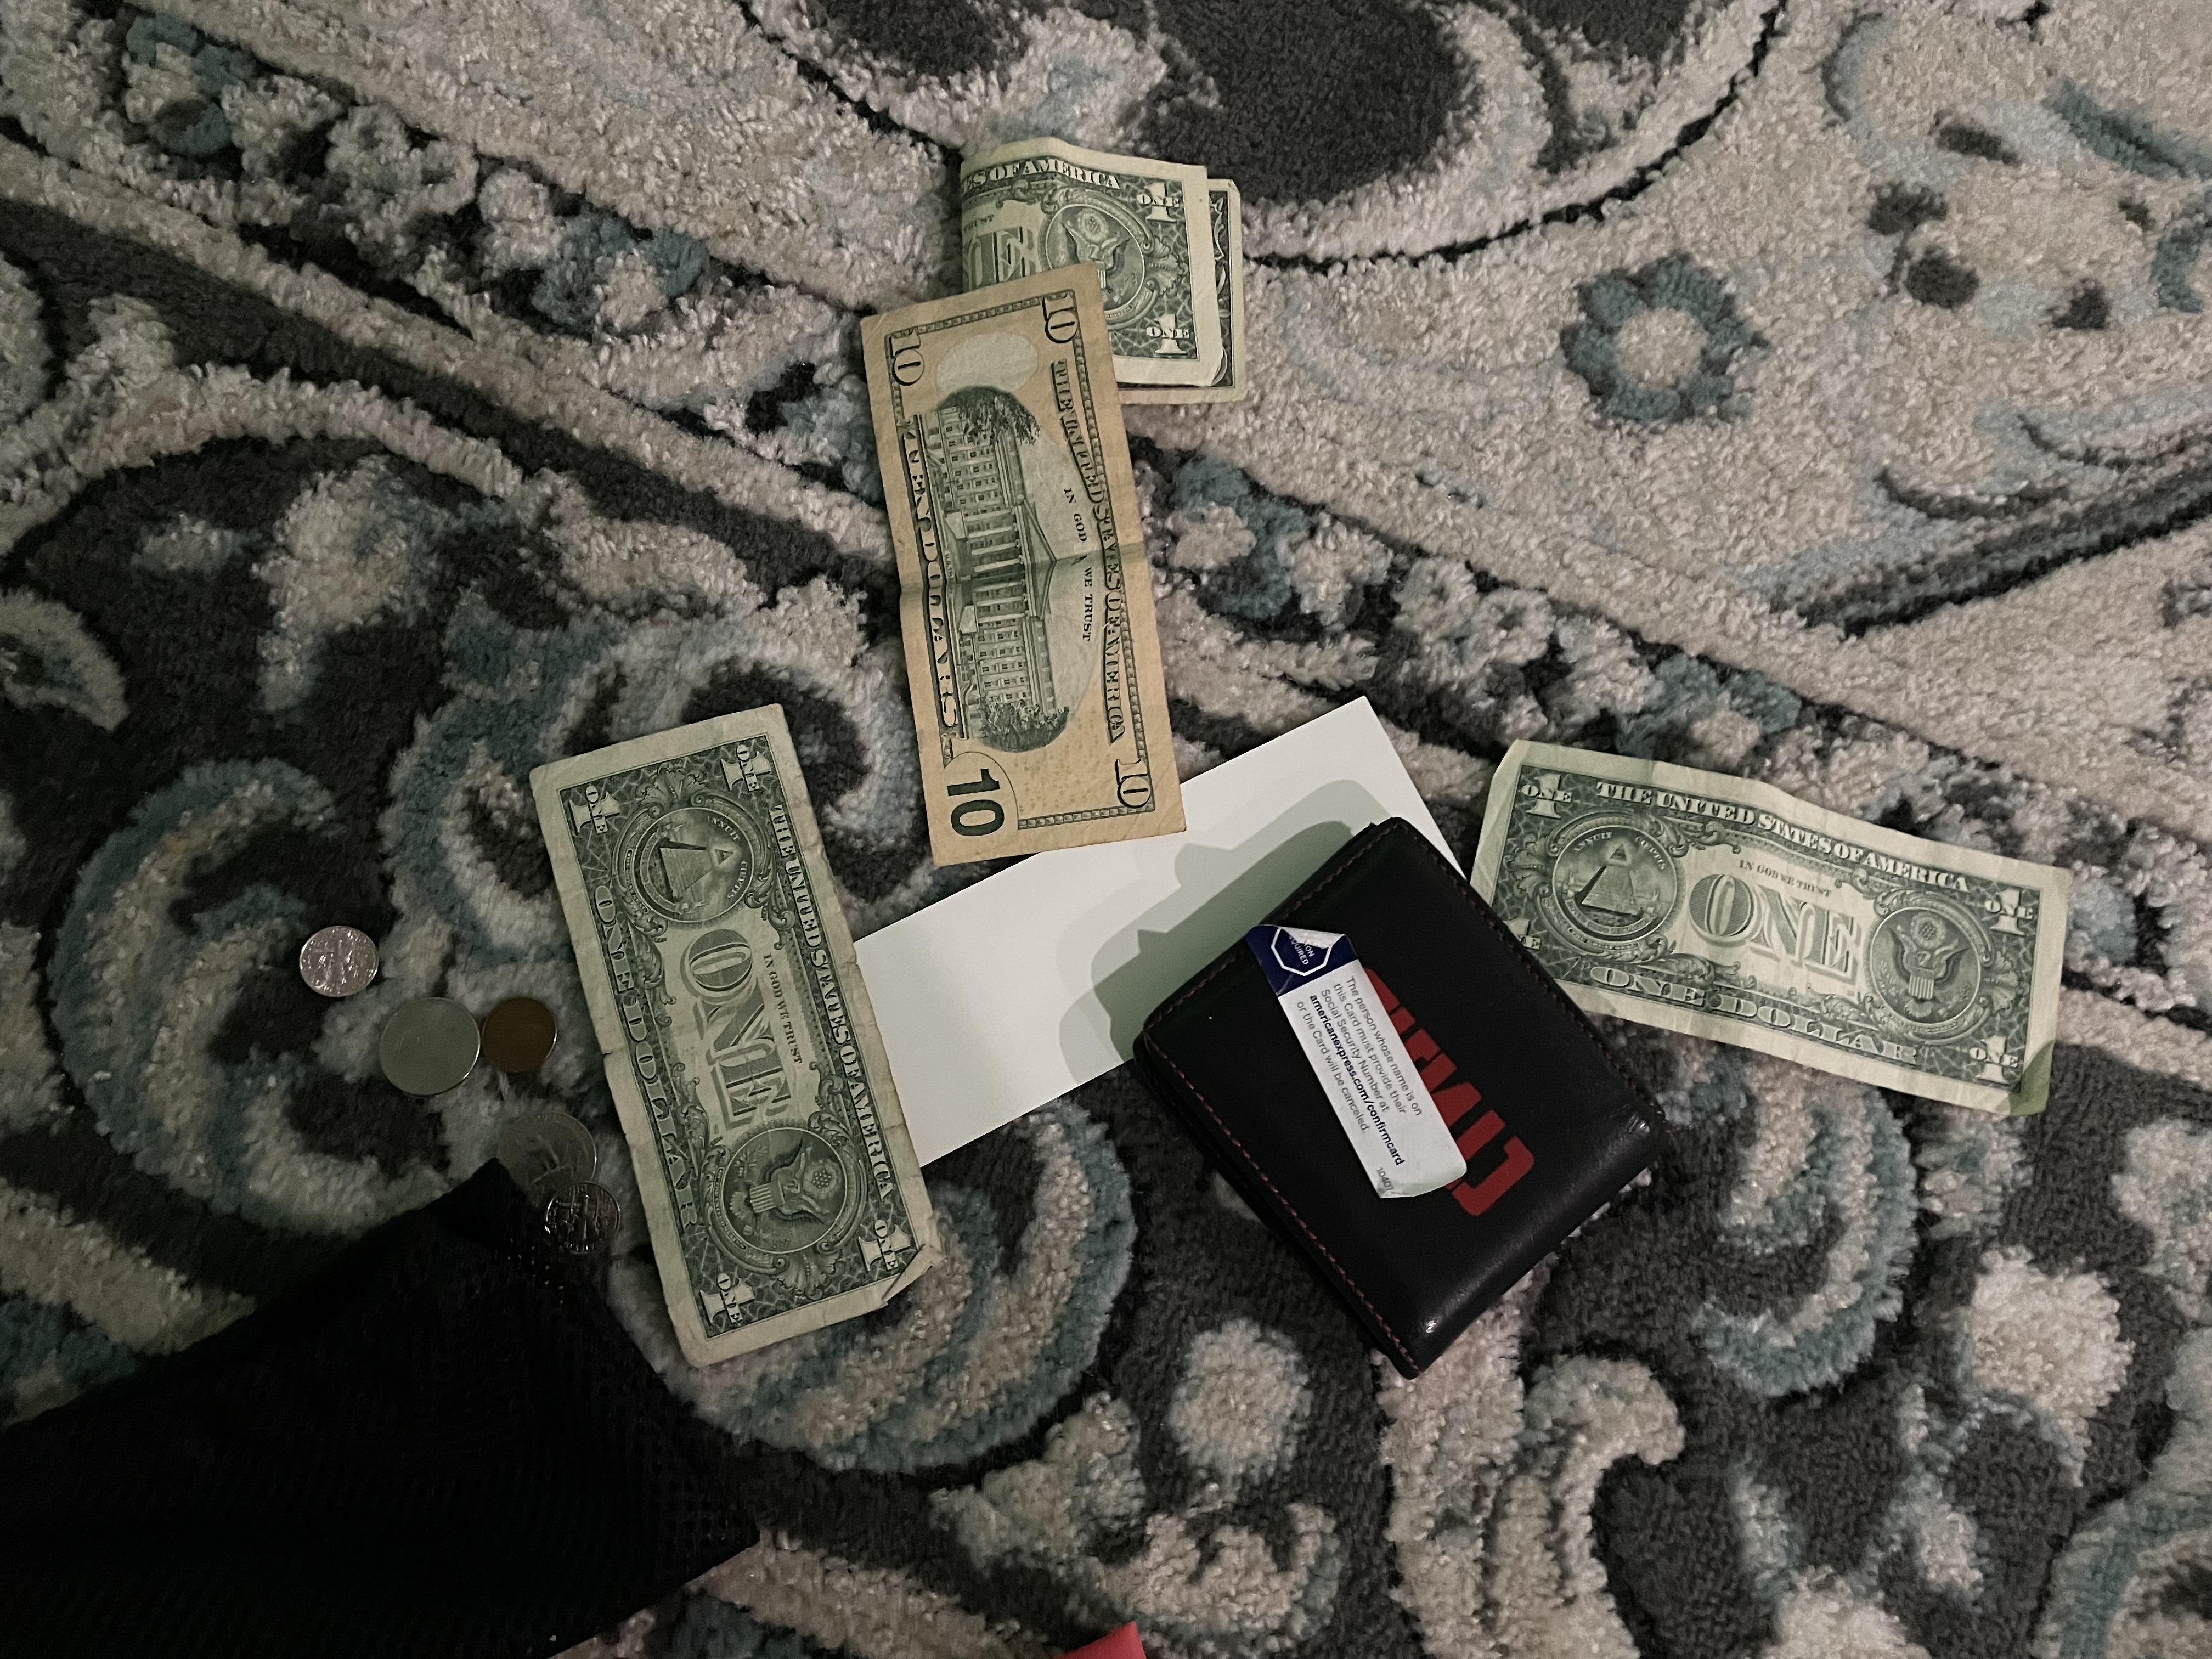Dime: (289, 922, 388, 995), (536, 1180, 625, 1256)
OneBill: (526, 699, 956, 1385), (1456, 735, 2080, 1138), (928, 131, 1256, 416)
Penny: (479, 995, 563, 1072)
Quarter: (374, 993, 482, 1100), (484, 1108, 608, 1201)
TenBill: (853, 254, 1191, 897)
